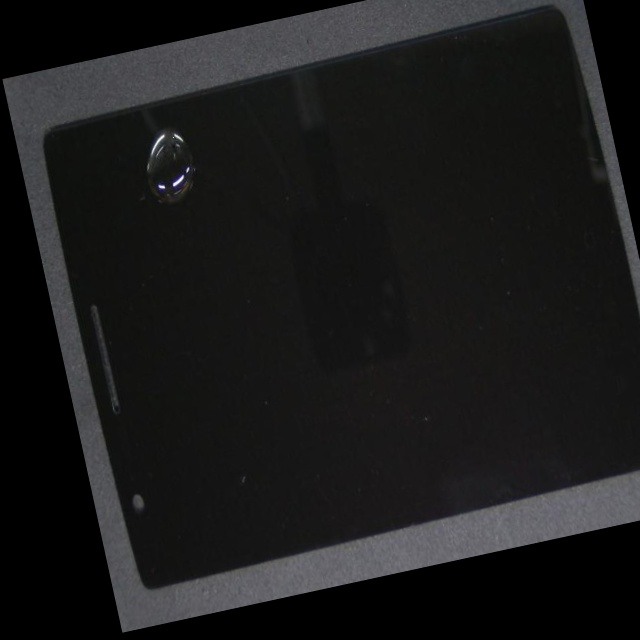oil: (71, 79, 225, 263)
